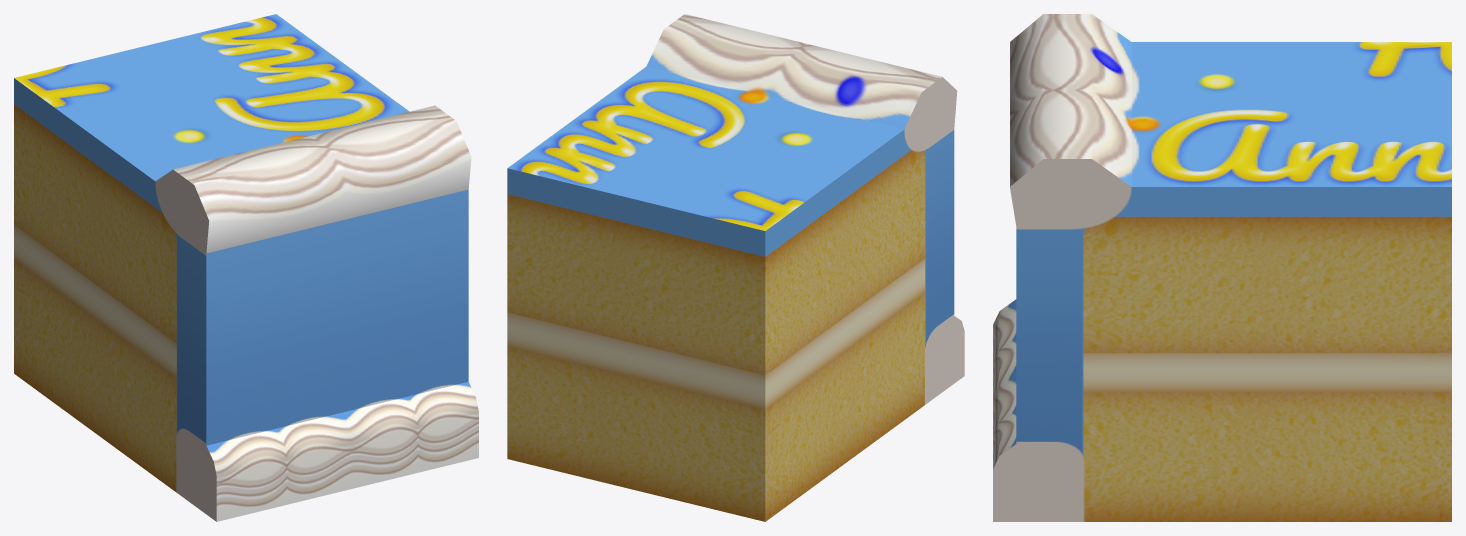
The model's file is SheetCake_01_Slice_04.fbx.
The picture shows the model from 3 angles, left to right: view 1: azimuth 30°, elevation 25°; view 2: azimuth 150°, elevation 25°; view 3: azimuth 270°, elevation 25°; orthographic projection. The views are drawn at different scales.
Visible parts, largest first — view 1: SheetCake_01_Slice_04; view 2: SheetCake_01_Slice_04; view 3: SheetCake_01_Slice_04.
Boxes of the visible parts, x1=… form: SheetCake_01_Slice_04: x1=14, y1=14, x2=478, y2=521; SheetCake_01_Slice_04: x1=507, y1=14, x2=964, y2=521; SheetCake_01_Slice_04: x1=993, y1=14, x2=1451, y2=521.
Size of the model in its own units: 34.22 by 39.96 by 45.77.
